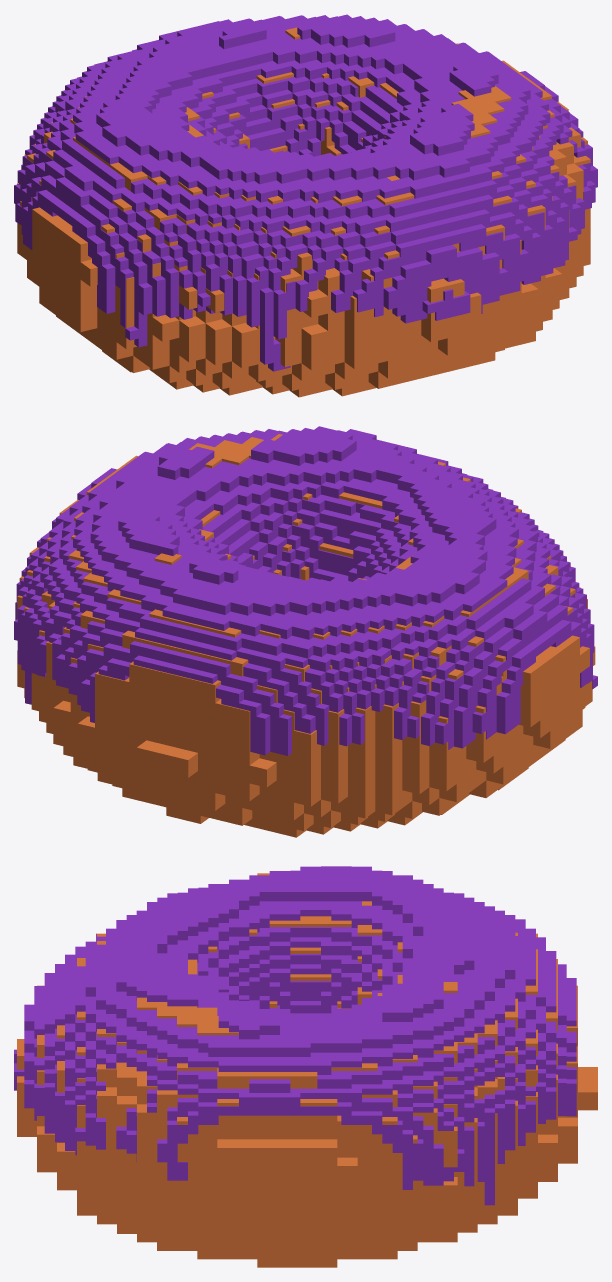
The model's file is poczus.fbx.
3 views of the same model, one above another, from view 1: azimuth 30°, elevation 25°; view 2: azimuth 150°, elevation 25°; view 3: azimuth 270°, elevation 25° (orthographic). The views are drawn at different scales.
Parts seen in each view (by area): view 1: Donut; view 2: Donut; view 3: Donut.
Part boxes in pixels (box(x1,y1,x2,y2)): Donut: box(14, 14, 597, 397); Donut: box(14, 426, 597, 837); Donut: box(14, 866, 597, 1267).
Size of the model in its own units: 9.98 by 4.6 by 10.03.
